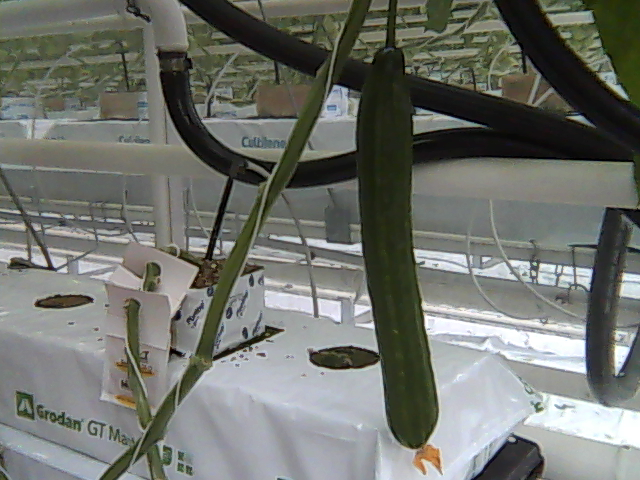concombre: (354, 36, 441, 478)
